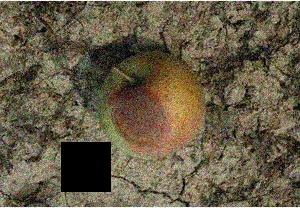rotten apple: (100, 50, 205, 155)
